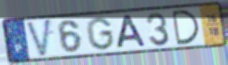3: (144, 11, 172, 47)
6: (56, 18, 83, 54)
A: (115, 14, 148, 50)
D: (170, 8, 202, 46)
G: (85, 16, 116, 52)
V: (25, 17, 54, 59)
